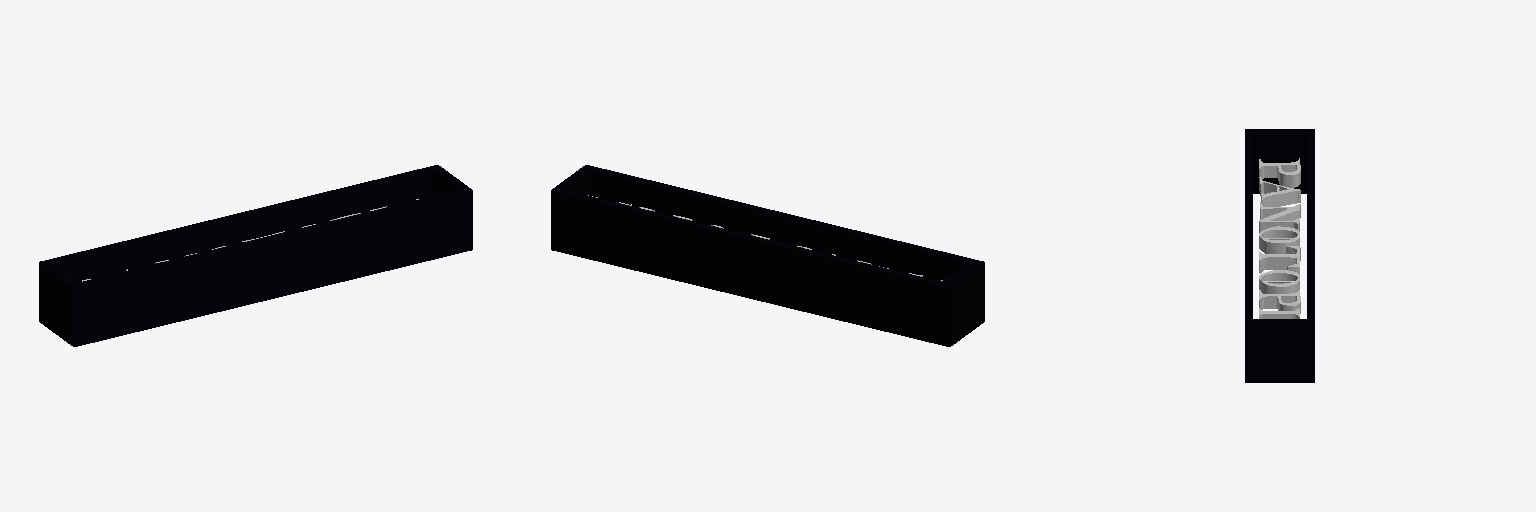
Rendered from title.obj.
The picture shows the model from 3 angles: view 1: azimuth 30°, elevation 25°; view 2: azimuth 150°, elevation 25°; view 3: azimuth 270°, elevation 25°; orthographic projection.
Parts seen in each view (by area): view 1: Cube; view 2: Cube; view 3: Cube, Text.
Part boxes in pixels (x1,y1,x2,y2): Cube: (39,165,472,346); Cube: (551,165,984,346); Cube: (1245,129,1314,382); Text: (1259,158,1300,318).
Bounding box in the file's own units: 6.59 × 0.9436 × 1.01.